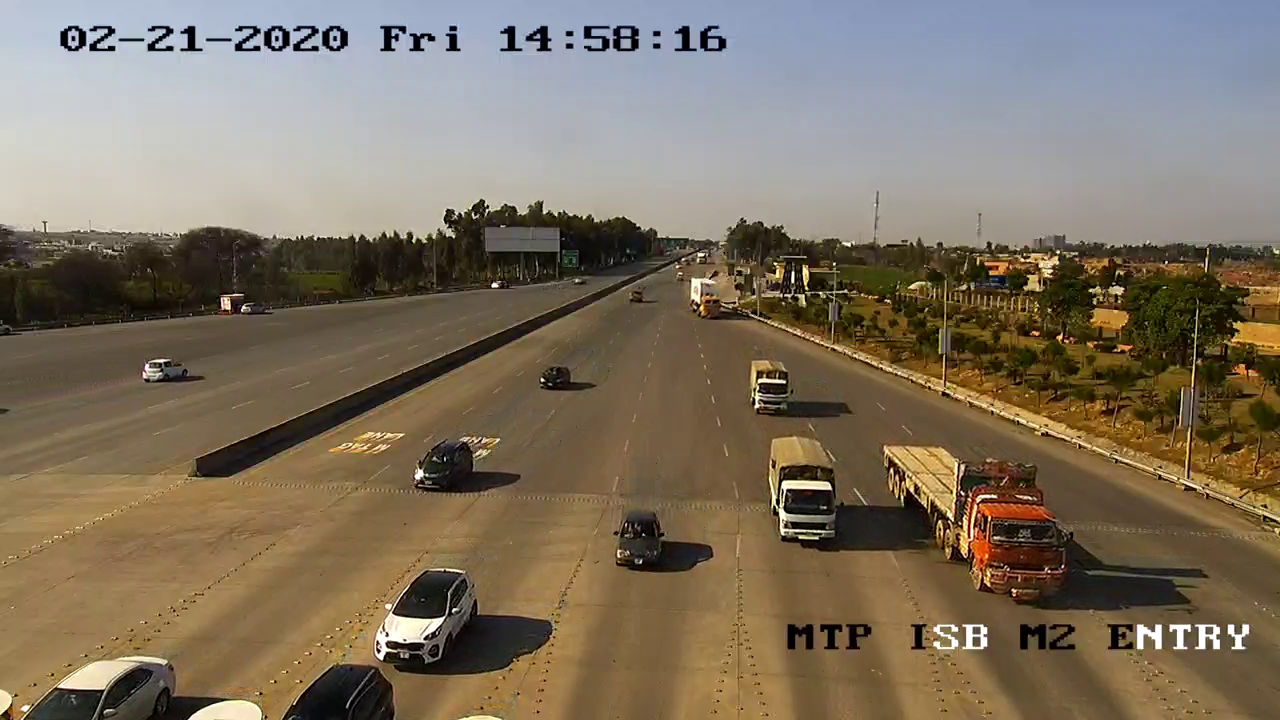f1: (363, 552, 483, 674), (402, 428, 482, 503), (604, 506, 679, 584)
f5: (743, 428, 852, 552), (735, 340, 798, 429)
f6: (871, 426, 1082, 609)
